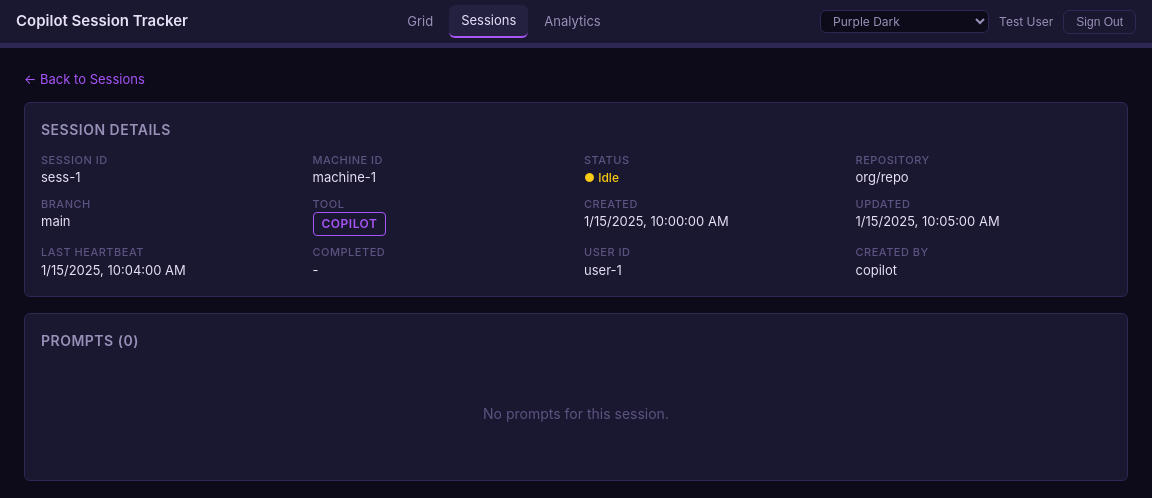
it: App (real component) › navigation between routes › navigating from SessionDetail back to sessions list works
What coordinates should you click on to do the following:
click the link "← Back to Sessions"
I would click on:
 (84, 80)
Its box is [24,70,145,90].
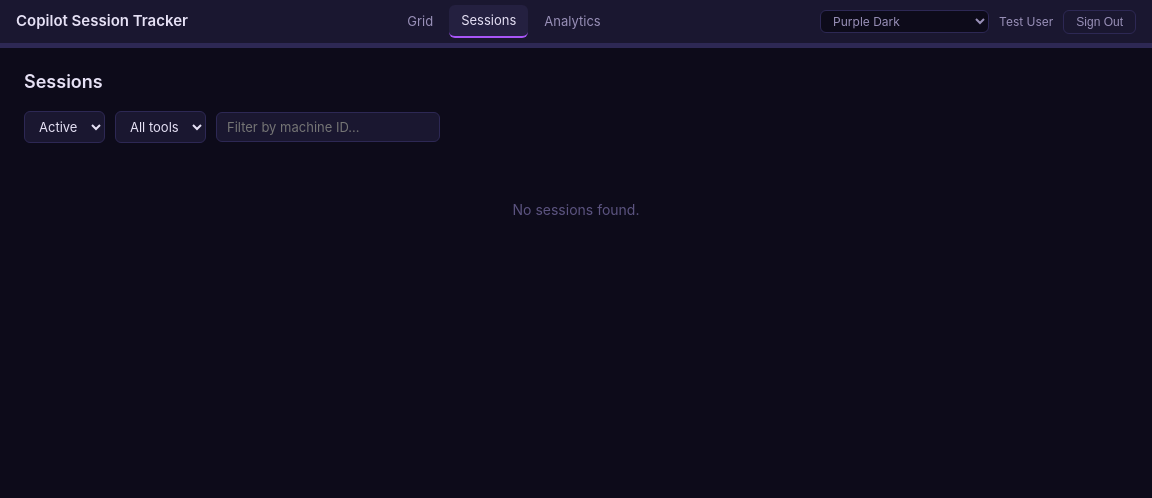
Expected: the heading "Sessions" is shown, [24,71,103,92]
